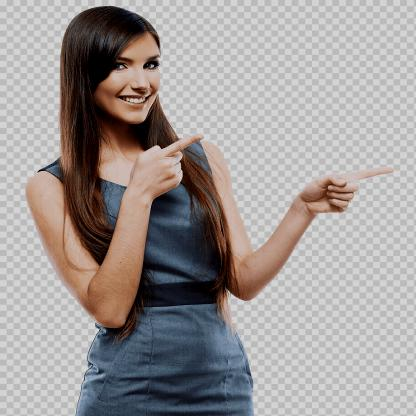Left: (111, 128, 211, 196), (298, 156, 404, 219)
